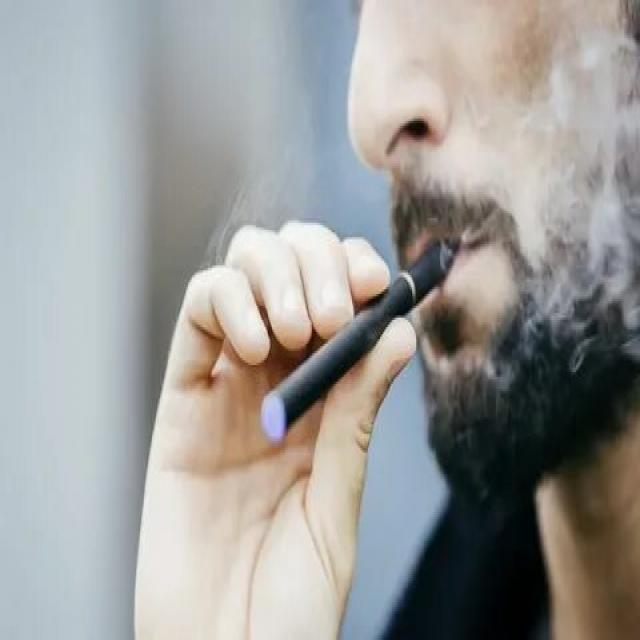cigarette: (261, 237, 460, 443)
